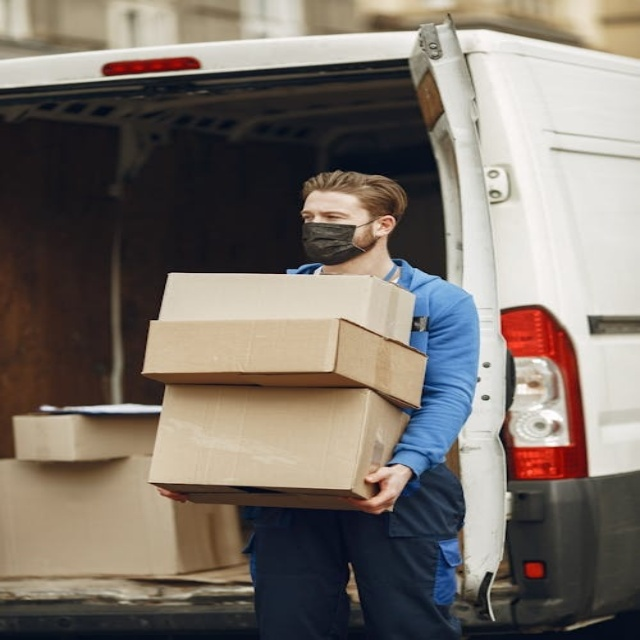Mascara: (300, 219, 377, 264)
Sin_gafas: (302, 213, 368, 226)
Sin_guantes: (347, 463, 412, 521)
